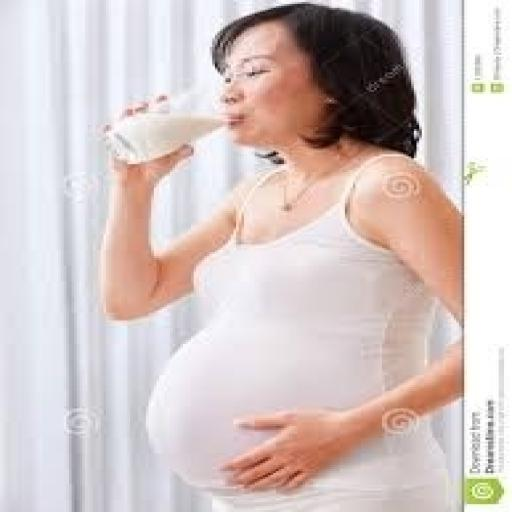drinking: (101, 110, 225, 164)
